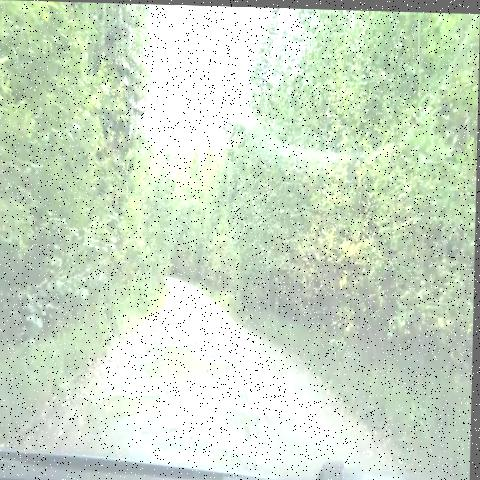pothole: (134, 327, 243, 399), (89, 375, 180, 440), (214, 404, 277, 439)
